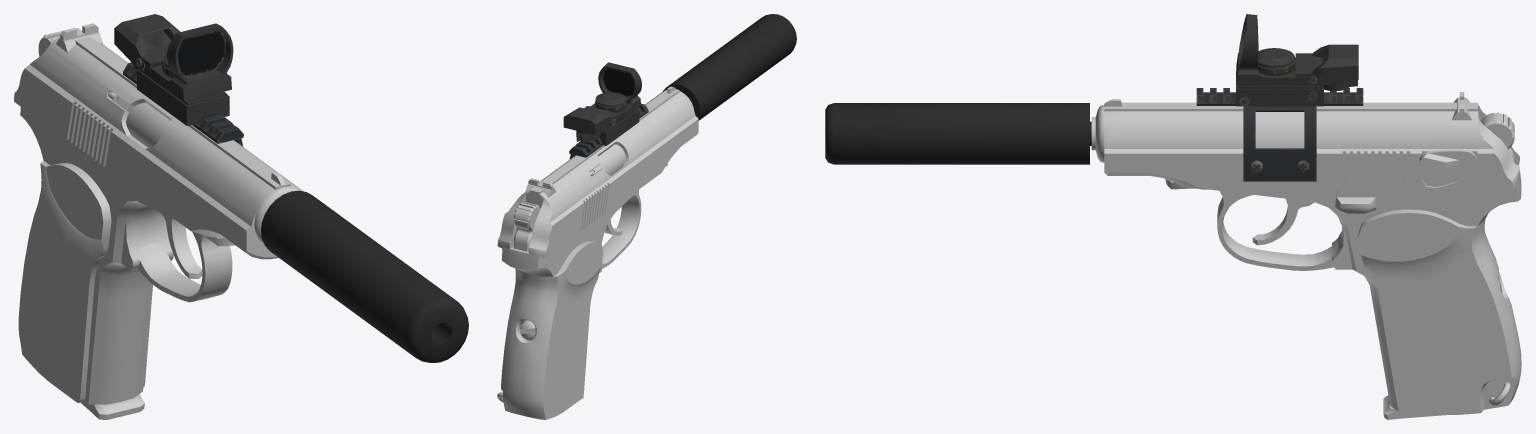
Rendered from makarov.fbx.
3 renders of one model, left to right at view 1: azimuth 30°, elevation 25°; view 2: azimuth 150°, elevation 25°; view 3: azimuth 270°, elevation 25°, orthographic. The views are drawn at different scales.
Visible parts, largest first — view 1: body, slide, suppressor_lp, bottom_lp, trigger, mag; view 2: body, slide, suppressor_lp, bottom_lp, hammer; view 3: body, slide, suppressor_lp, bottom_lp, fireselect, magrelease, trigger, hammer.
Boxes of the visible parts, box(x1,y1,x2,y2) form: body: box(18, 102, 235, 404); slide: box(14, 23, 303, 259); suppressor_lp: box(261, 190, 468, 362); bottom_lp: box(114, 14, 243, 146); trigger: box(160, 212, 202, 278); mag: box(81, 394, 144, 419); body: box(497, 144, 667, 419); slide: box(497, 86, 698, 257); suppressor_lp: box(662, 14, 796, 120); bottom_lp: box(563, 62, 648, 159); hammer: box(514, 202, 540, 251); body: box(1091, 117, 1521, 414); slide: box(1095, 92, 1519, 189); suppressor_lp: box(825, 103, 1091, 164); bottom_lp: box(1196, 14, 1363, 181); fireselect: box(1419, 149, 1477, 175); magrelease: box(1335, 188, 1376, 213); trigger: box(1252, 198, 1314, 245); hammer: box(1481, 112, 1514, 162).
Size of the model in its own units: 259 by 1357 by 2206.
